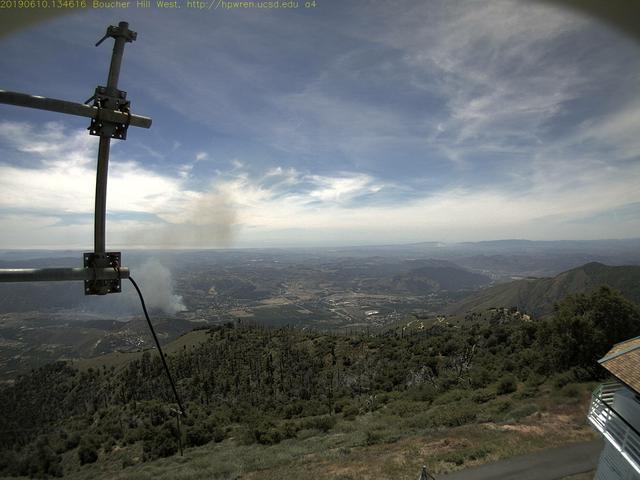smoke: (114, 176, 243, 319)
